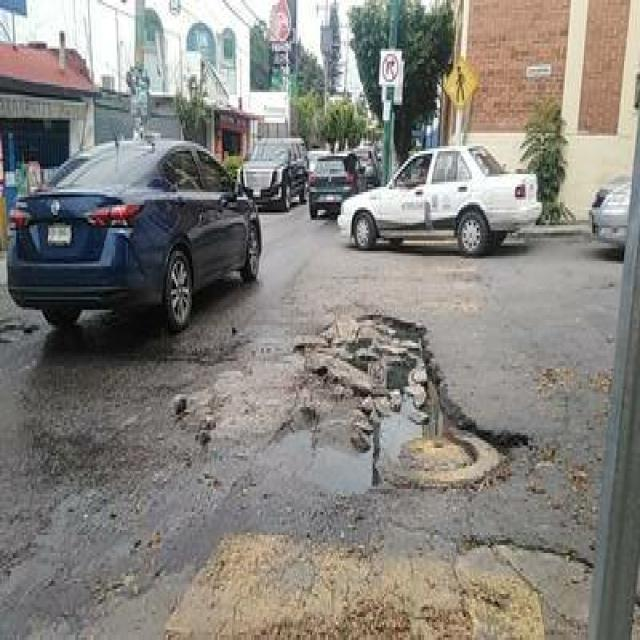Pothole: (253, 302, 563, 548)
